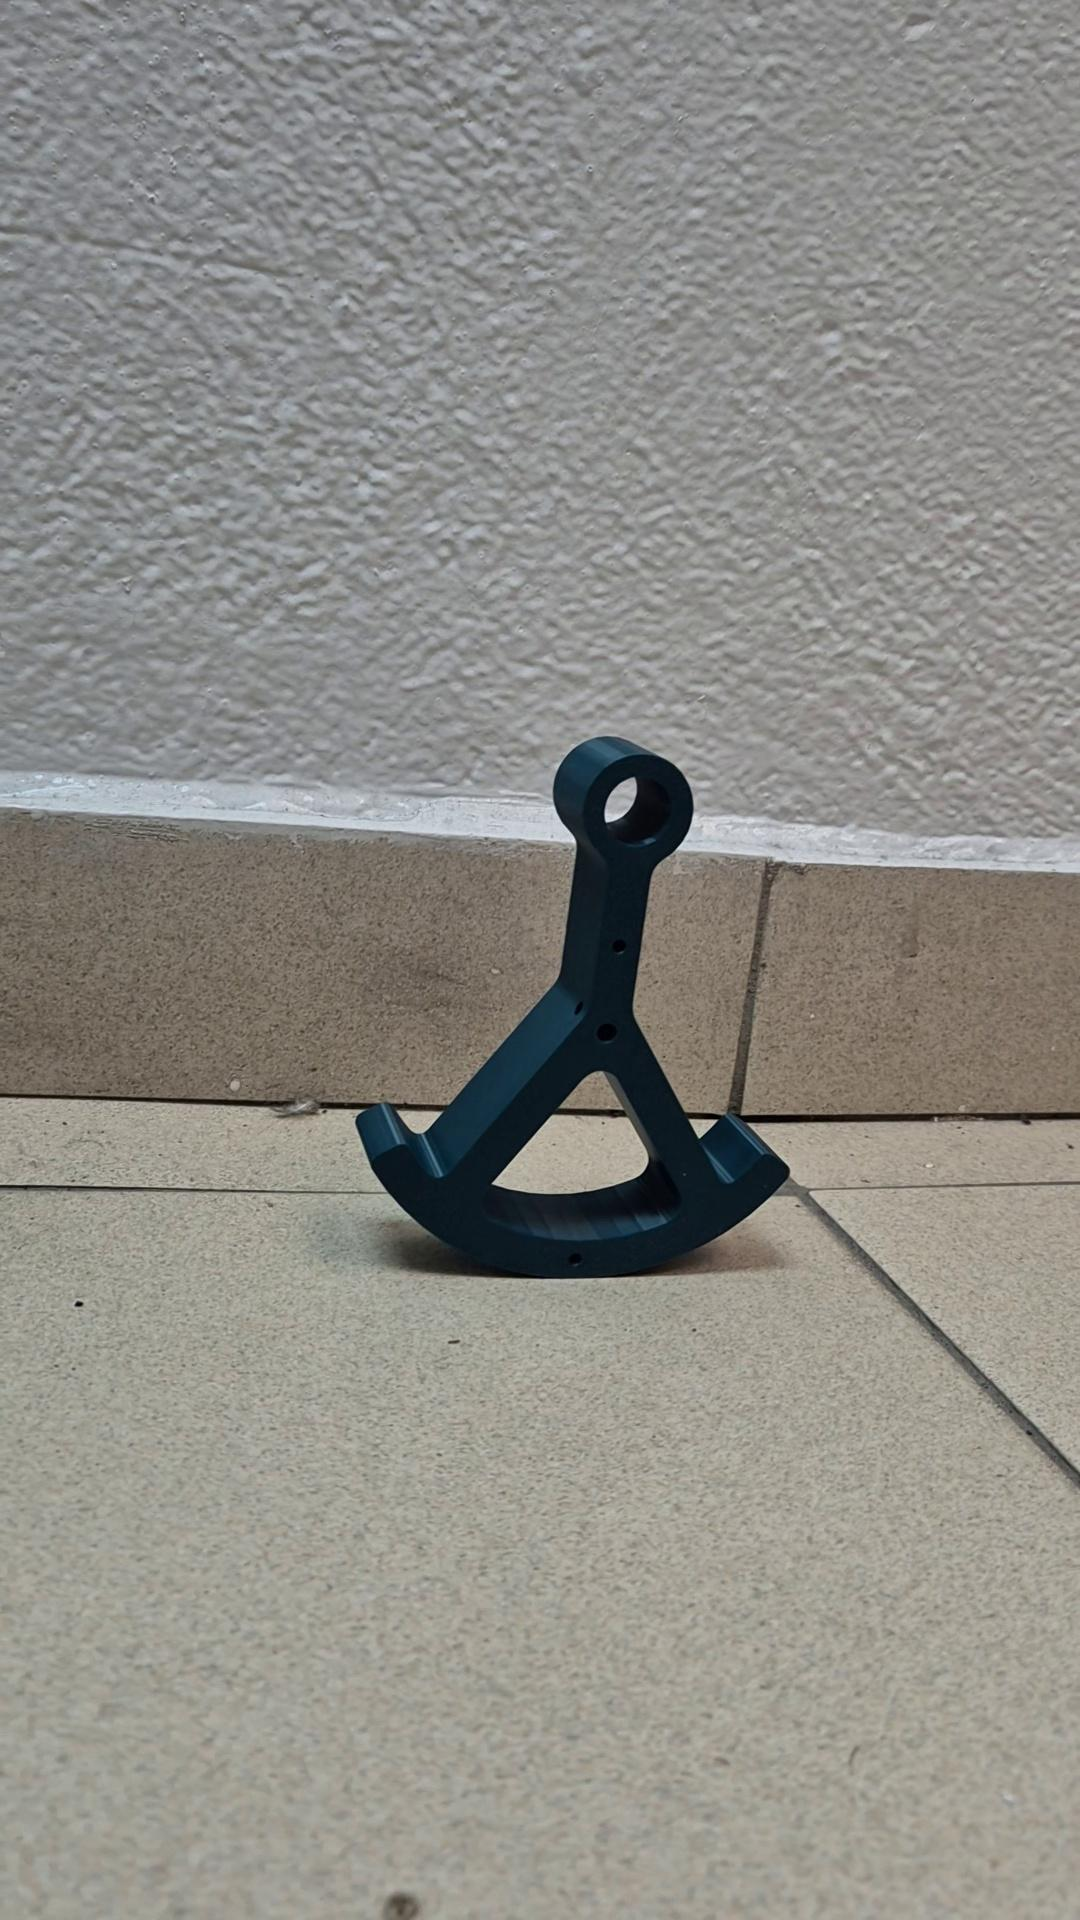Paddles: (353, 733, 794, 1280)
